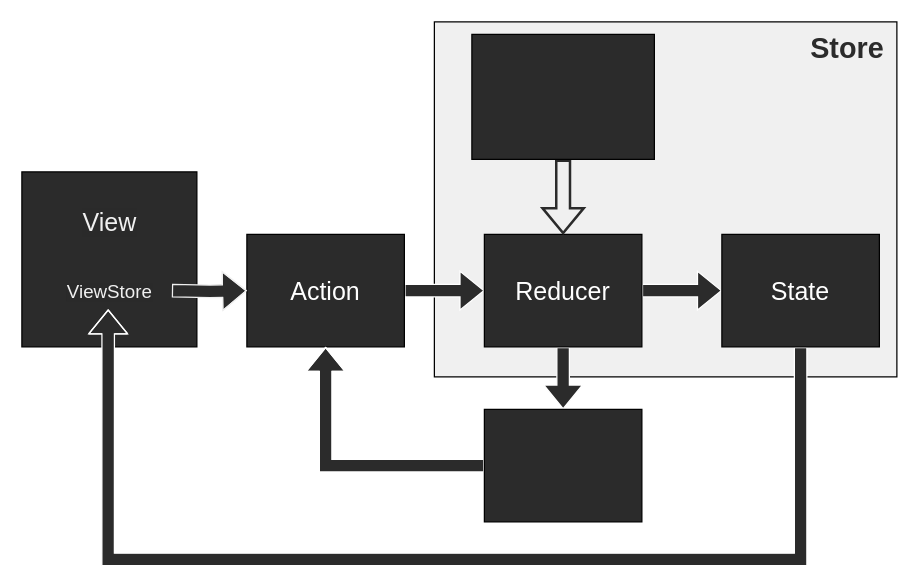
This 919x588 diagram has some shape labels left out. Here are the shapes that lost their labels. From the top down, the box of each, then its label:
(471, 33, 654, 159): Environment
(483, 408, 642, 522): Effect
